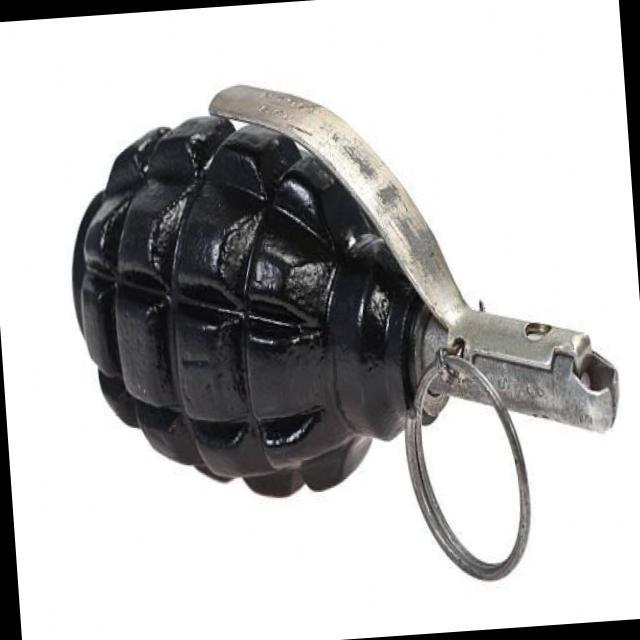grenade: (56, 63, 632, 605)
